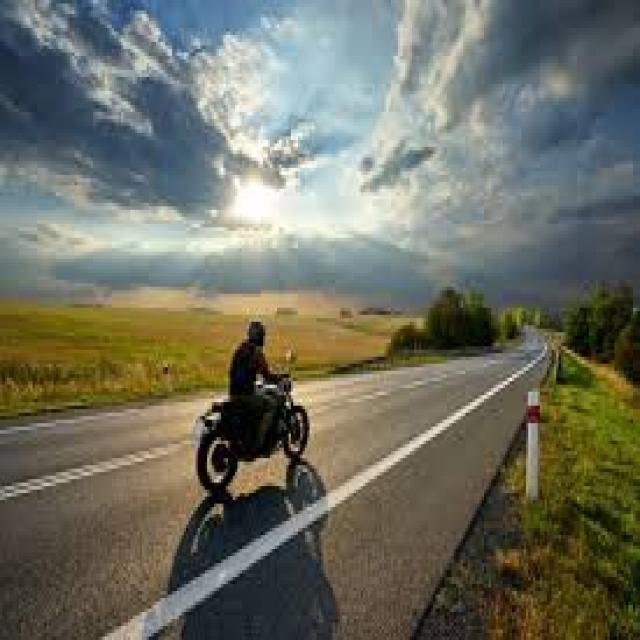MOTORCYCLE: (197, 357, 313, 470)
